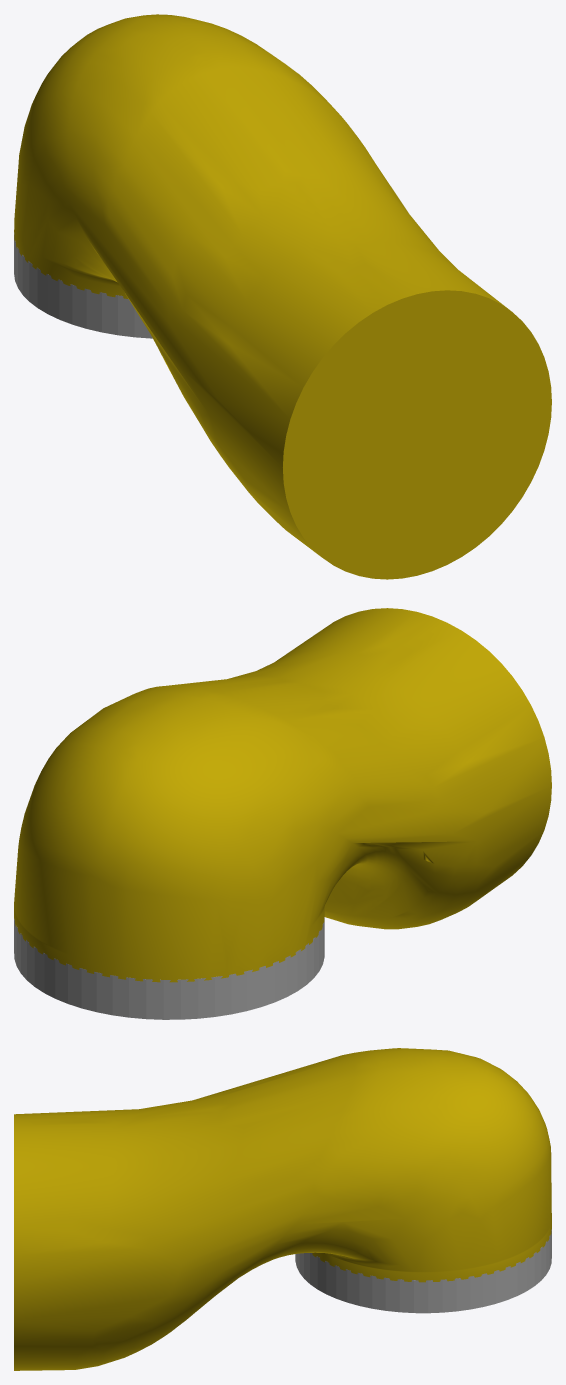
The model's file is LWR_Link4.dae.
3 renders of one model, top to bottom at view 1: azimuth 30°, elevation 25°; view 2: azimuth 150°, elevation 25°; view 3: azimuth 270°, elevation 25°, orthographic. The views are drawn at different scales.
Visible parts, largest first — view 1: Mesh_005, Mesh_021; view 2: Mesh_005, Mesh_021; view 3: Mesh_005, Mesh_021.
Boxes of the visible parts, <box> form: Mesh_005: <box>14,14,551,579</box>; Mesh_021: <box>14,232,152,338</box>; Mesh_005: <box>14,608,551,982</box>; Mesh_021: <box>14,917,324,1019</box>; Mesh_005: <box>14,1048,551,1370</box>; Mesh_021: <box>295,1229,551,1313</box>.
Size of the model in its own units: 0.12 by 0.2515 by 0.1537.
